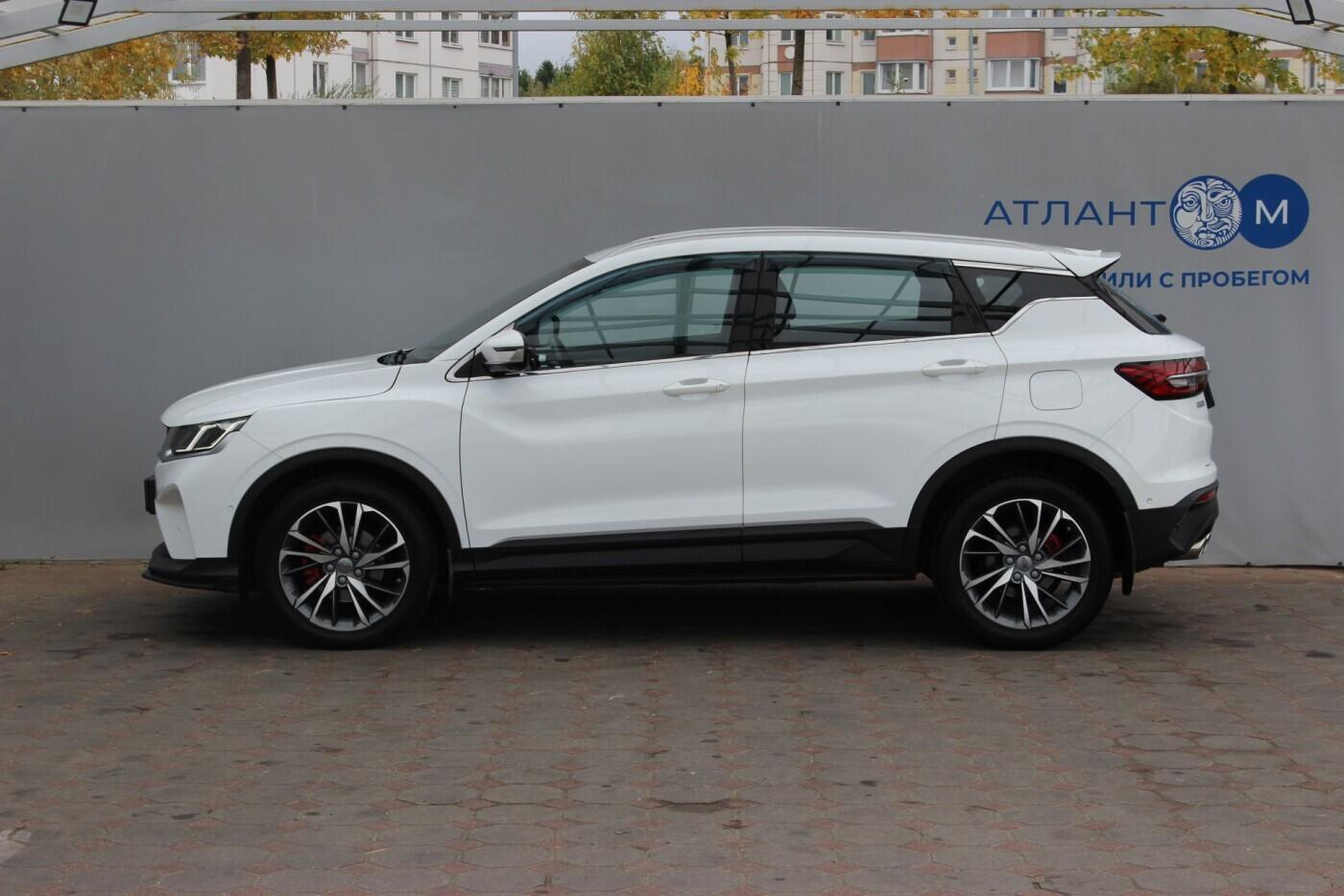Coolray_2019-2023: (133, 215, 1232, 647)
